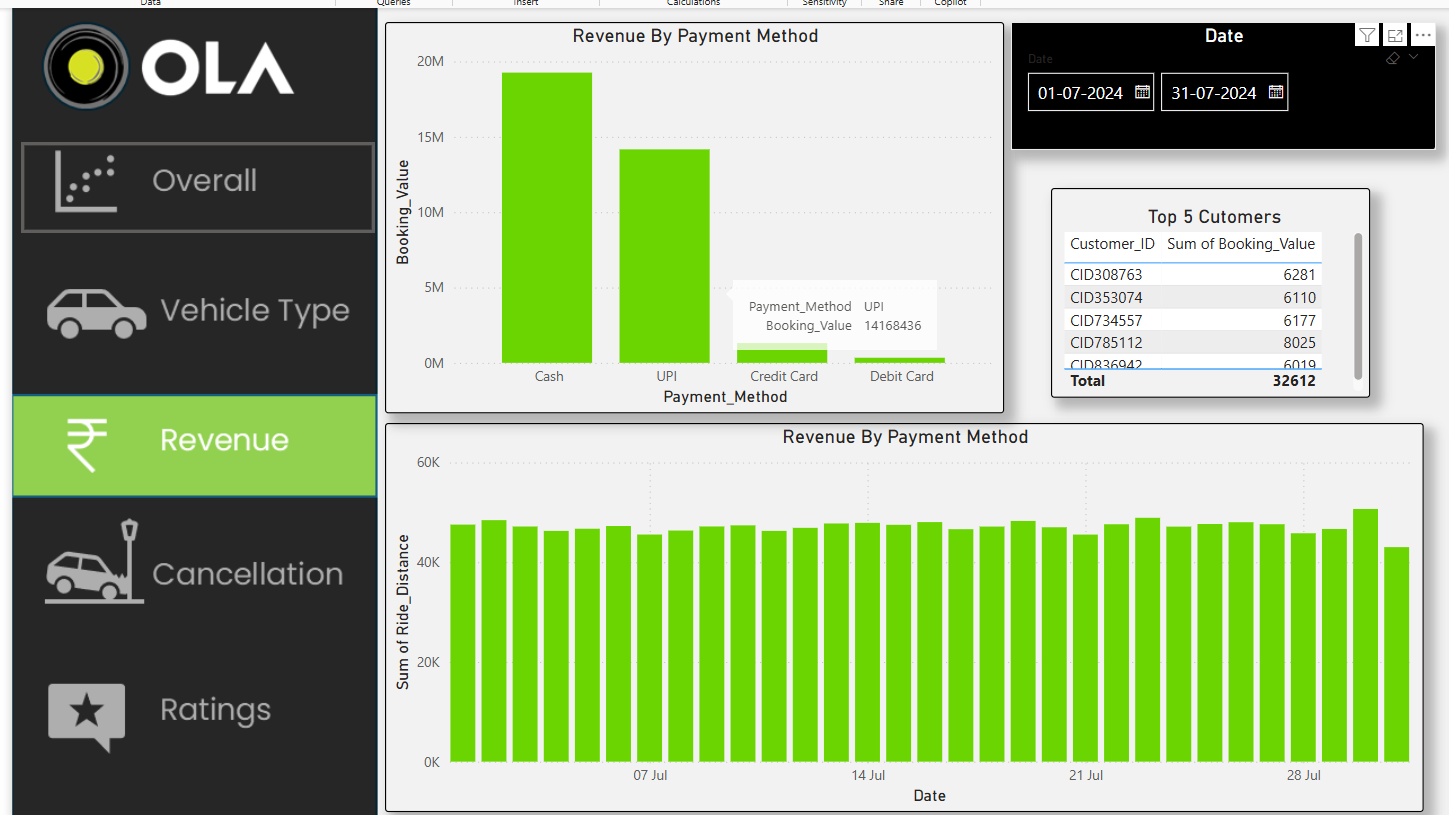

The page's visual inventory and layout, read from the dashboard file:
{"tool":"powerbi","page":{"name":"Revenue","canvas":[1280,720],"ordinal":2},"visuals":[{"type":"actionButton","box":[8,237.6,313.9,80.7],"z":0},{"type":"actionButton","box":[6.2,453.1,313.9,80.7],"z":1000},{"type":"actionButton","box":[6.2,587,313.9,80.7],"z":2000},{"type":"actionButton","box":[8,118.8,313.9,80.7],"z":3000},{"type":"columnChart","title":"Revenue By Payment Method","fields":{"Y":["Sum(bookings.Booking_Value)"],"Category":["bookings.Payment_Method"]},"box":[330.7,12.6,548.6,347.2],"z":4000},{"type":"columnChart","title":"Revenue By Payment Method","fields":{"Y":["Sum(bookings.Ride_Distance)"],"Category":["bookings.Date"]},"box":[330.7,367.7,921.1,345.3],"z":5000},{"type":"slicer","title":"Date","fields":{"Values":["bookings.Date"]},"box":[886.1,12.6,376.4,112.8],"z":5001},{"type":"tableEx","title":"Top 5 Cutomers","fields":{"Values":["bookings.Customer_ID","Sum(bookings.Booking_Value)"]},"box":[921.1,159.5,283,185.8],"z":5002}]}

Visuals, with their boxes on the page's 1280x720 design canvas (x1, y1, x2, y2). These are canvas units, not pixel positions in the 1449x815 screenshot, which may show the page scaled, cropped or inside an application window:
actionButton: bbox=[8, 238, 322, 318]
actionButton: bbox=[6, 453, 320, 534]
actionButton: bbox=[6, 587, 320, 668]
actionButton: bbox=[8, 119, 322, 200]
"Revenue By Payment Method" columnChart: bbox=[331, 13, 879, 360]
"Revenue By Payment Method" columnChart: bbox=[331, 368, 1252, 713]
"Date" slicer: bbox=[886, 13, 1262, 125]
"Top 5 Cutomers" tableEx: bbox=[921, 160, 1204, 345]
